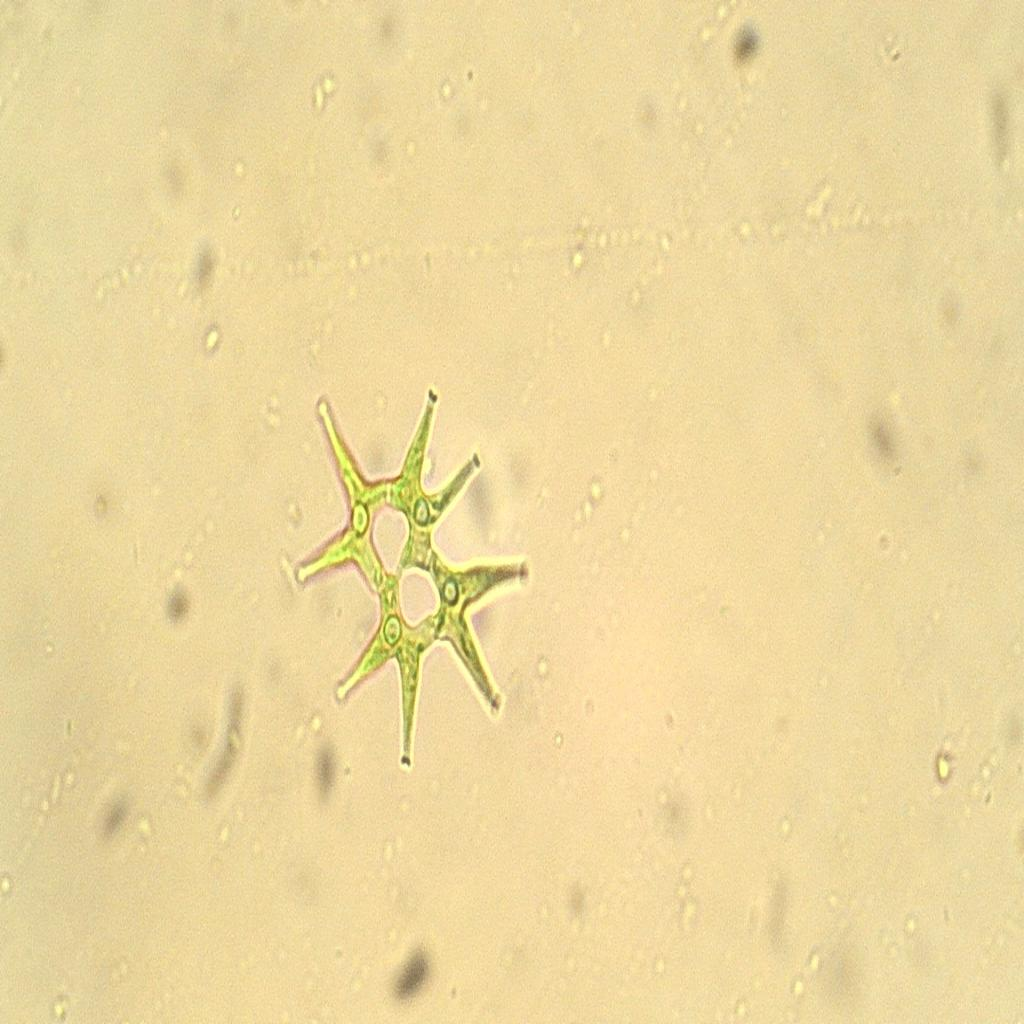Pediastrum_CF: (281, 342, 542, 788)
